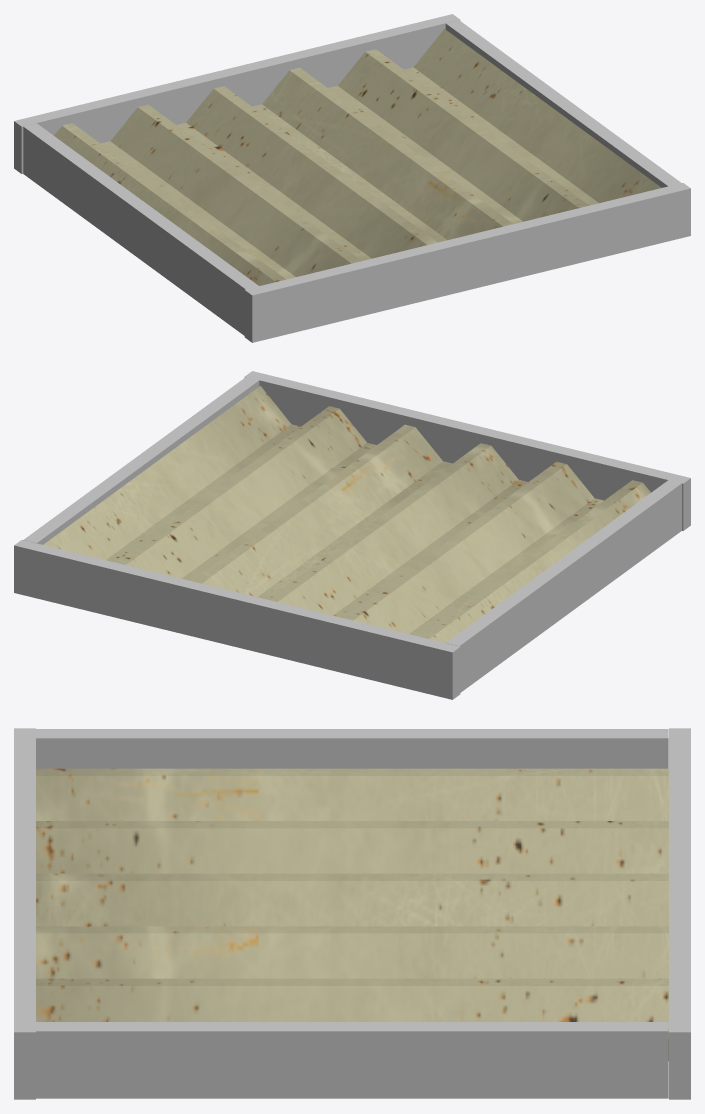
The model's file is raincover04d.fbx.
The picture shows the model from 3 angles, top to bottom: view 1: azimuth 30°, elevation 25°; view 2: azimuth 150°, elevation 25°; view 3: azimuth 270°, elevation 25°; orthographic projection. The views are drawn at different scales.
Visible parts, largest first — view 1: raincover04d; view 2: raincover04d; view 3: raincover04d.
Boxes of the visible parts, bbox=[...] form: raincover04d: bbox=[14, 14, 690, 342]; raincover04d: bbox=[14, 371, 690, 699]; raincover04d: bbox=[14, 728, 690, 1099].
Size of the model in its own units: 393 by 40.66 by 370.
